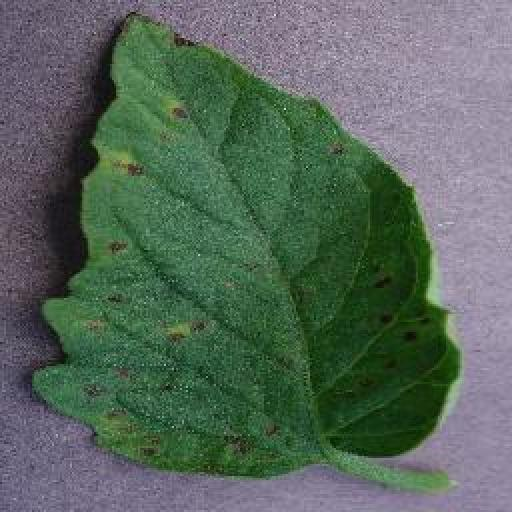Septoria: (31, 12, 466, 477)
